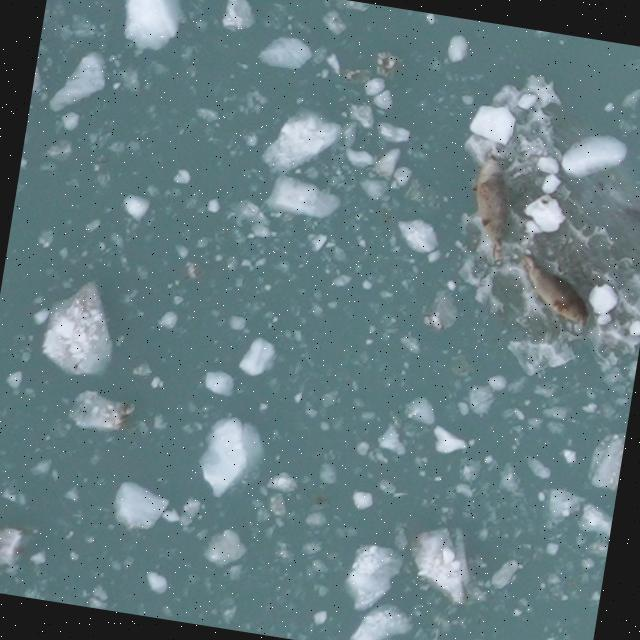seal: (460, 149, 524, 270), (508, 251, 601, 332)
